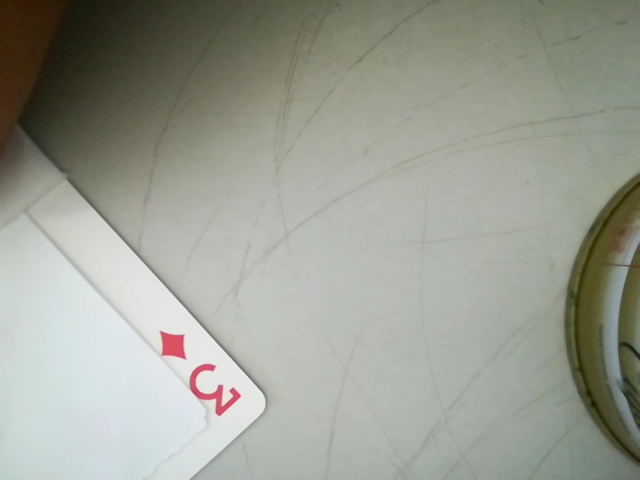fk 3: (146, 320, 252, 430)
